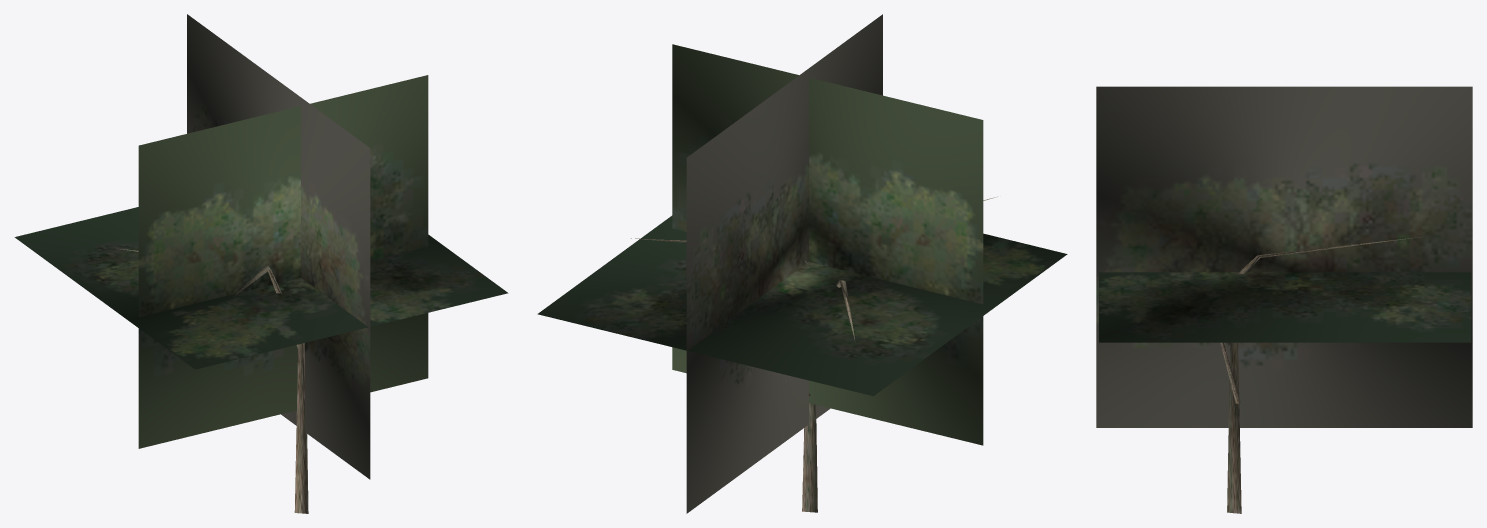
Rendered from decd_dogwoodtreeleaves_a2_l4.fbx.
The picture shows the model from 3 angles, left to right: view 1: azimuth 30°, elevation 25°; view 2: azimuth 150°, elevation 25°; view 3: azimuth 270°, elevation 25°; orthographic projection. The views are drawn at different scales.
Visible parts, largest first — view 1: mesh_node; view 2: mesh_node; view 3: mesh_node.
Boxes of the visible parts, bbox=[...] form: mesh_node: bbox=[14, 14, 508, 513]; mesh_node: bbox=[537, 14, 1067, 513]; mesh_node: bbox=[1096, 86, 1472, 513].
Bounding box in the file's own units: 16.71 × 21.05 × 16.91.
